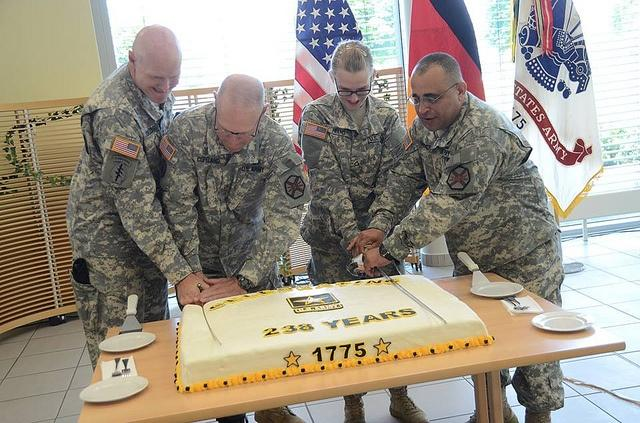Meja: (77, 270, 628, 422)
